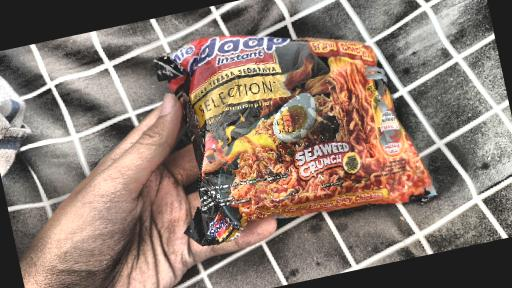mie sedap: (120, 0, 459, 258)
